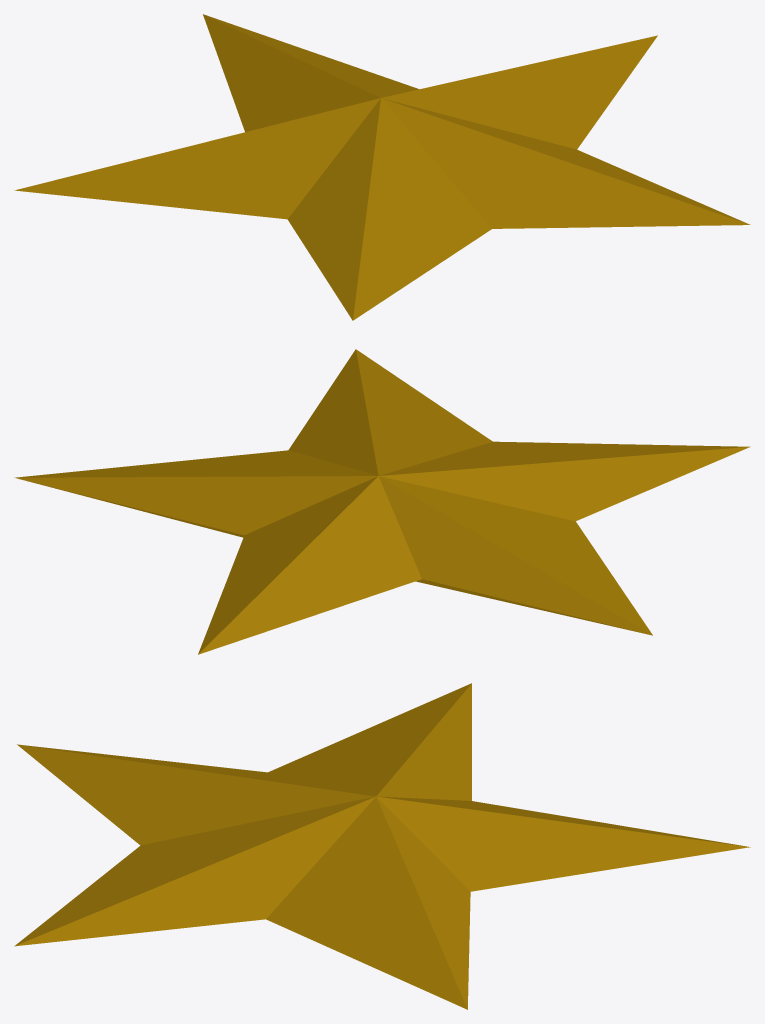
The model's file is estrela1.obj.
3 renders of one model, top to bottom at view 1: azimuth 30°, elevation 25°; view 2: azimuth 150°, elevation 25°; view 3: azimuth 270°, elevation 25°, orthographic. The views are drawn at different scales.
Parts seen in each view (by area): view 1: pCylinder1; view 2: pCylinder1; view 3: pCylinder1.
Part boxes in pixels (x1,y1,x2,y2): pCylinder1: (14,14,750,320); pCylinder1: (14,349,750,654); pCylinder1: (14,683,750,1009).
Size of the model in its own units: 15.71 by 2.27 by 14.97.
